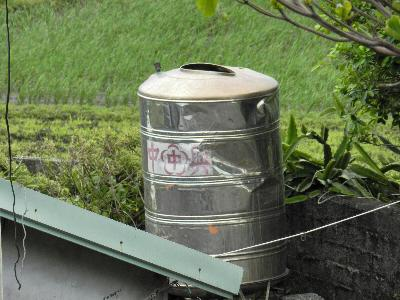water_tower: (137, 62, 290, 300)
